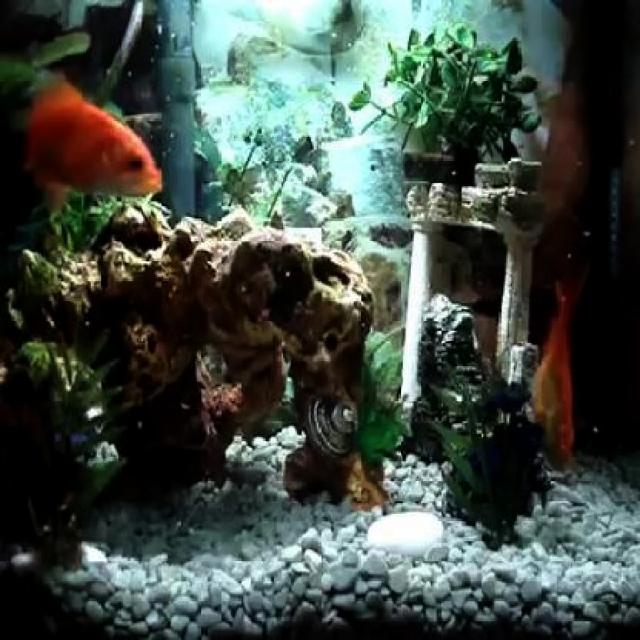GoldFish: (5, 58, 163, 214), (522, 276, 586, 478)
